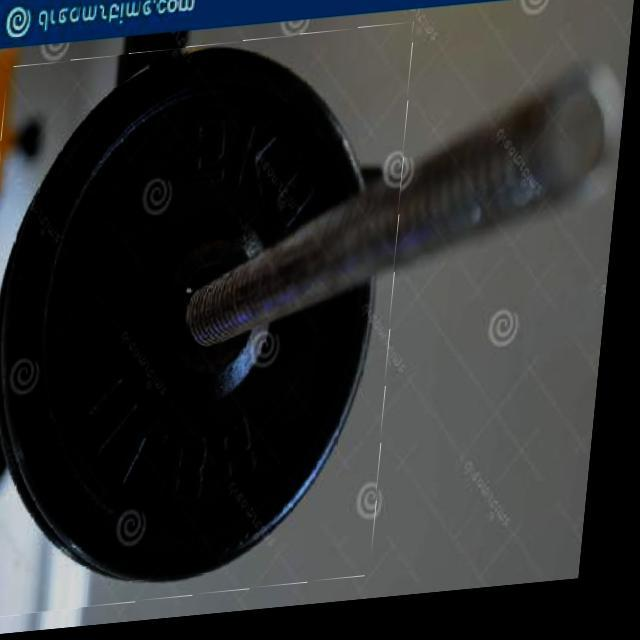barbell: (1, 32, 423, 621)
